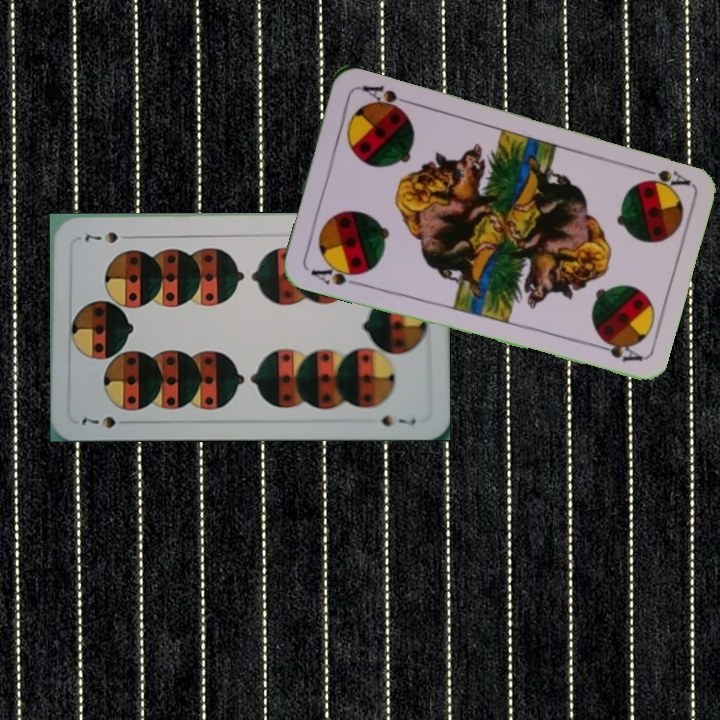S7: (78, 412, 134, 431)
SA: (306, 259, 365, 288), (633, 163, 692, 192)
